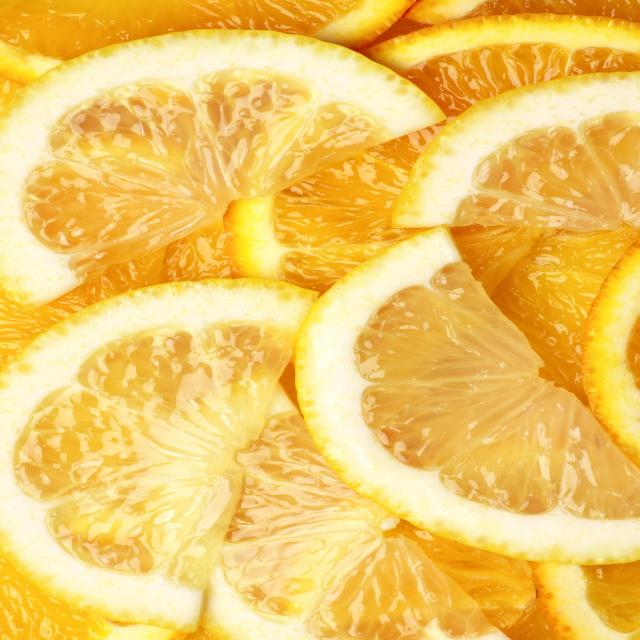lemon: (0, 18, 495, 316), (1, 266, 364, 634), (290, 217, 640, 567)
